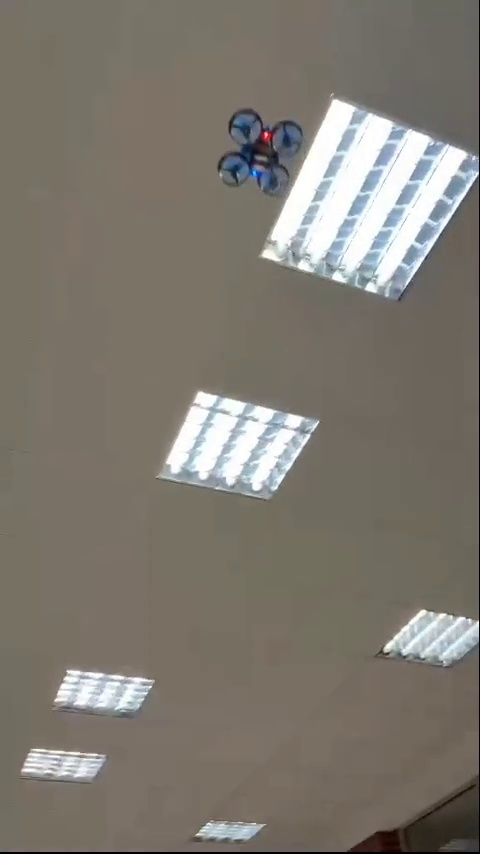drone: (218, 111, 298, 194)
